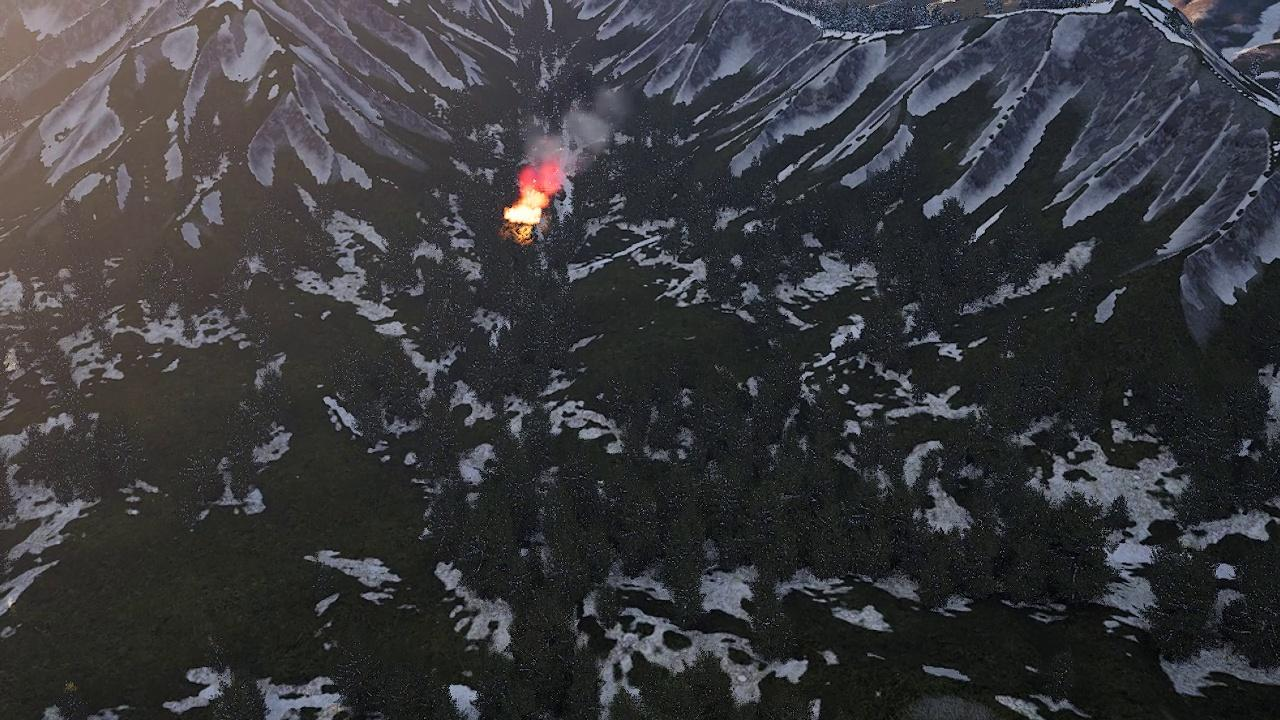fire: (502, 185, 550, 229)
smoke: (521, 80, 638, 184)
